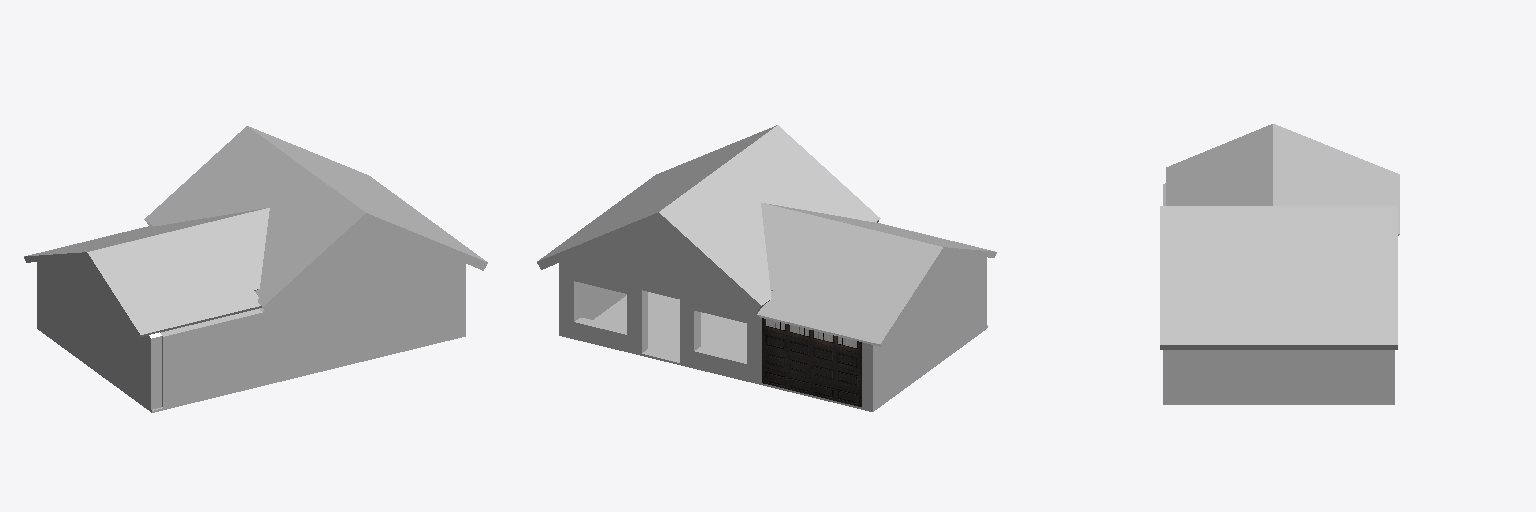
3 renders of one model, left to right at view 1: azimuth 30°, elevation 25°; view 2: azimuth 150°, elevation 25°; view 3: azimuth 270°, elevation 25°, orthographic.
Visible parts, largest first — view 1: Cube.004, Cube.003, Cube.005; view 2: Cube.004, Cube.003, Cube.005; view 3: Cube.003, Cube.005, Cube.004.
Boxes of the visible parts, x1=… form: Cube.004: x1=37, y1=220, x2=465, y2=412; Cube.003: x1=144, y1=126, x2=487, y2=311; Cube.005: x1=24, y1=208, x2=269, y2=337; Cube.004: x1=559, y1=219, x2=987, y2=411; Cube.003: x1=537, y1=125, x2=880, y2=311; Cube.005: x1=757, y1=203, x2=996, y2=346; Cube.003: x1=1160, y1=206, x2=1397, y2=349; Cube.005: x1=1166, y1=124, x2=1399, y2=235; Cube.004: x1=1163, y1=183, x2=1394, y2=404.
Size of the model in its own units: 18.34 by 7.62 by 11.08.
Materials: 7 (2 with a texture image).